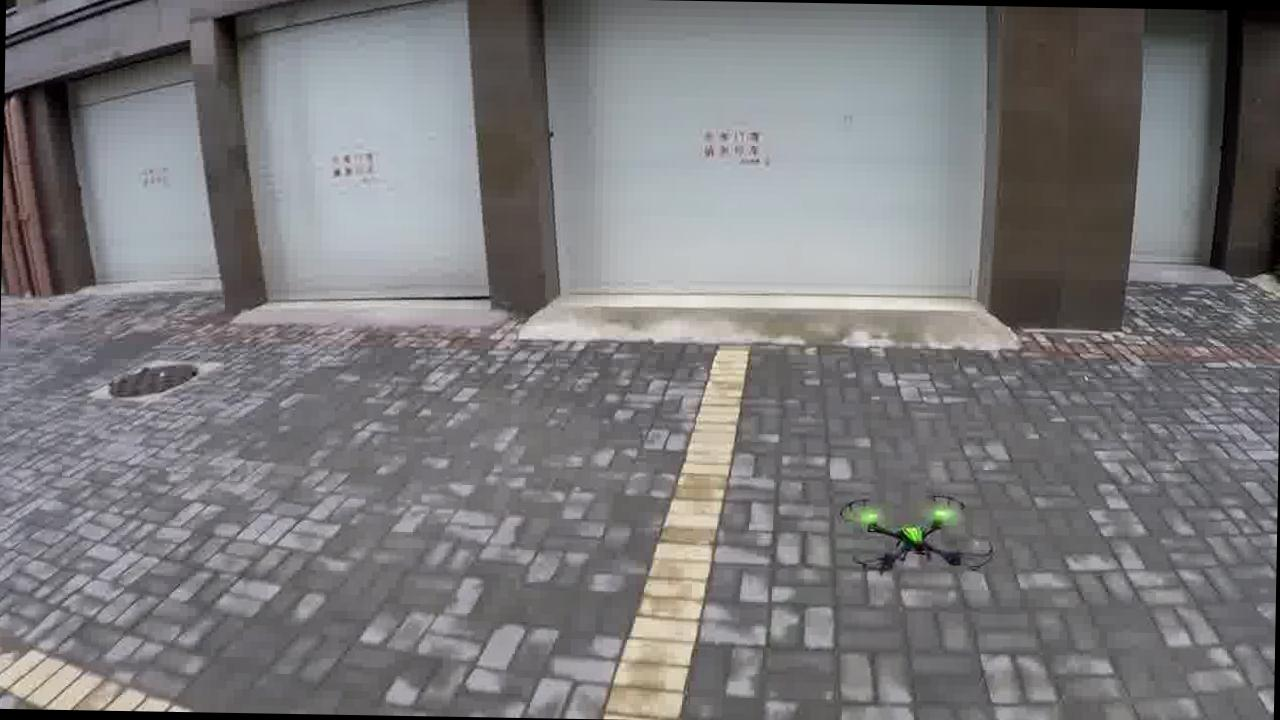drone: (828, 485, 1001, 582)
